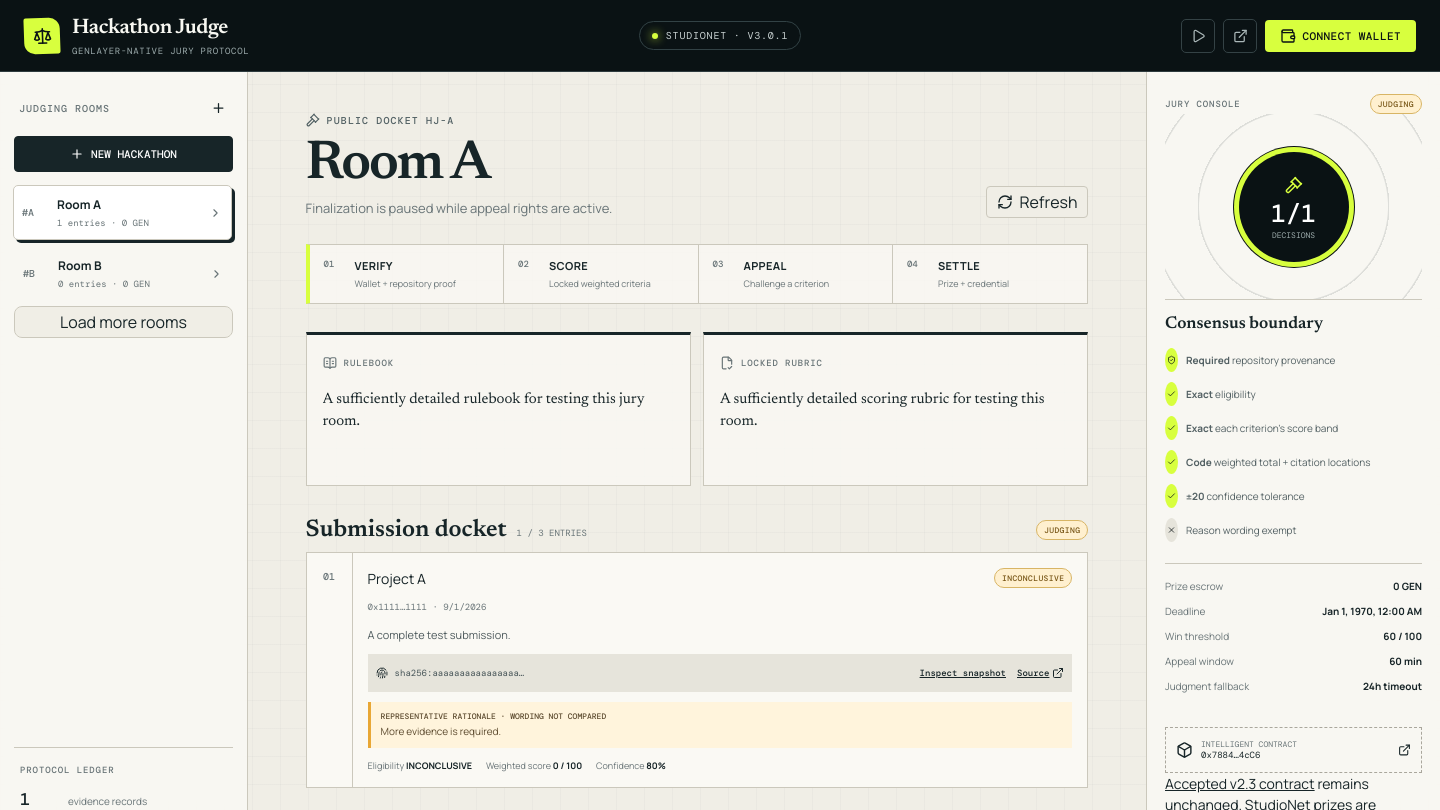
Test case: room and transaction safety › closes a pending appeal when the selected room changes
Expected: the heading "Room A" is shown, x1=306 y1=138 x2=489 y2=193
Click the button "Connect wallet".
click(1341, 36)  # box x1=1265 y1=20 x2=1416 y2=52
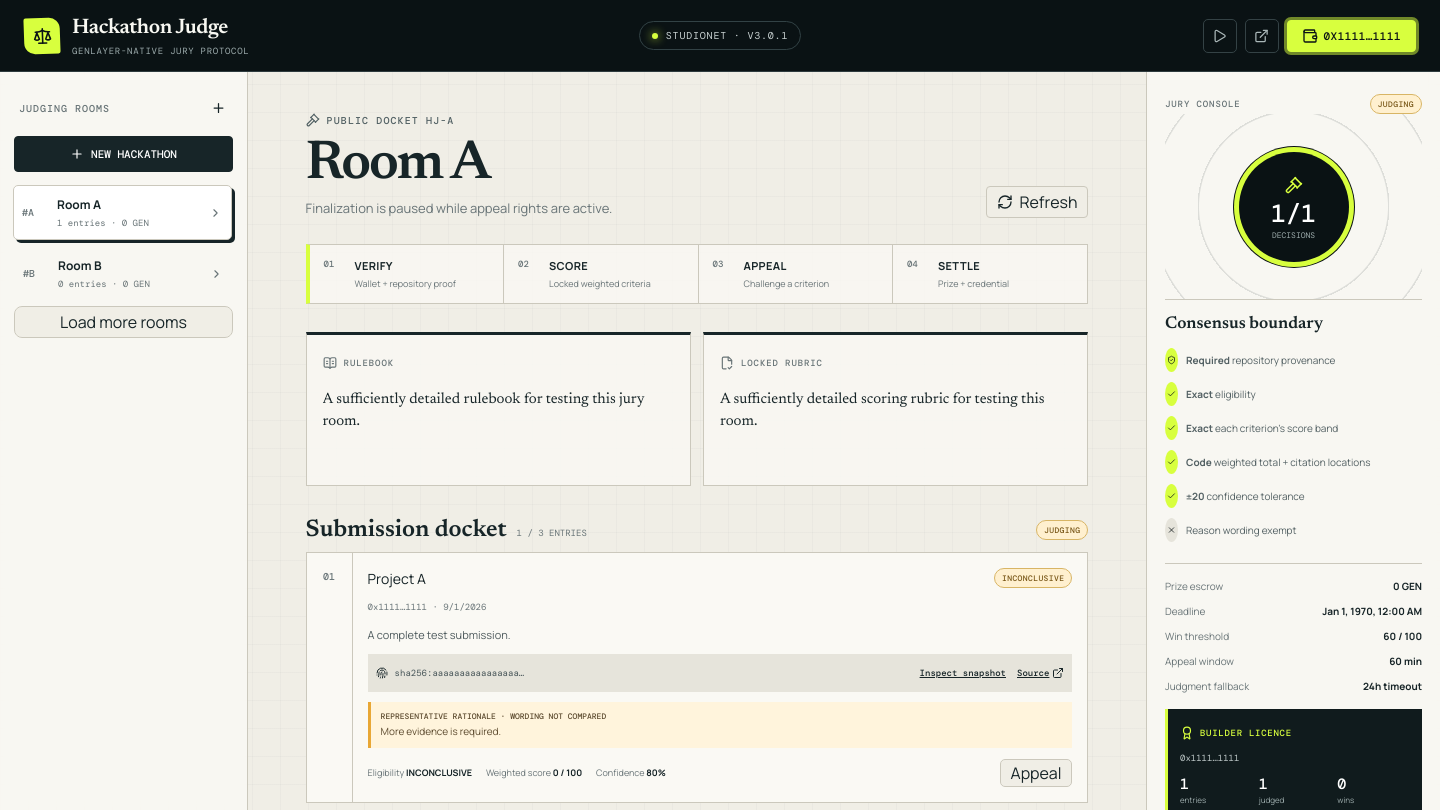
Click the button "Appeal".
click(1036, 773)  # box x1=1000 y1=759 x2=1072 y2=787
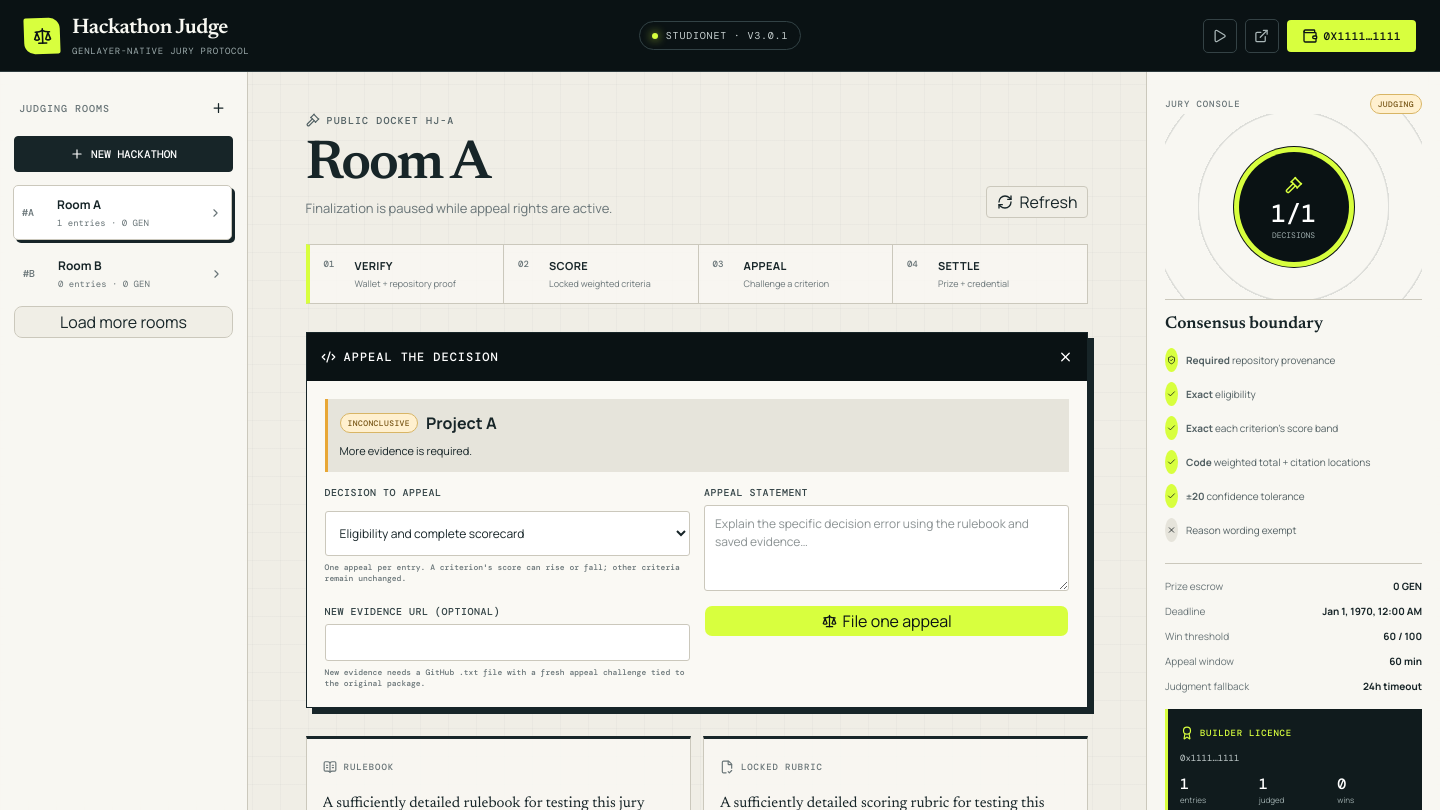
Now the heading "Appeal the decision" is shown, box x1=344 y1=349 x2=499 y2=365
Click the button "#B Room B 0 entries · 0 GEN".
click(124, 274)  # box x1=14 y1=246 x2=233 y2=301
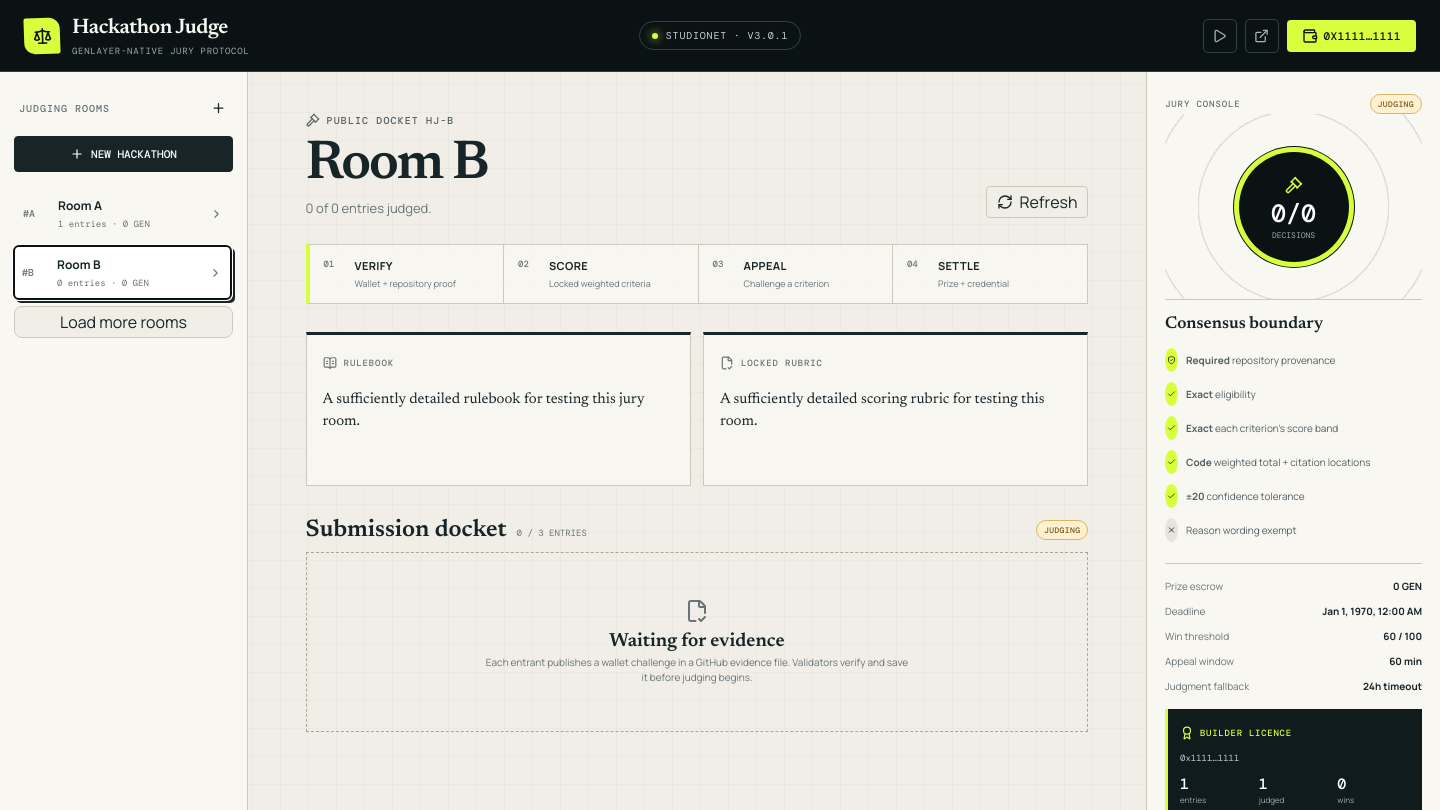
Now the heading "Room B" is shown, box x1=306 y1=140 x2=488 y2=193
Now the heading "Appeal the decision" is gone
